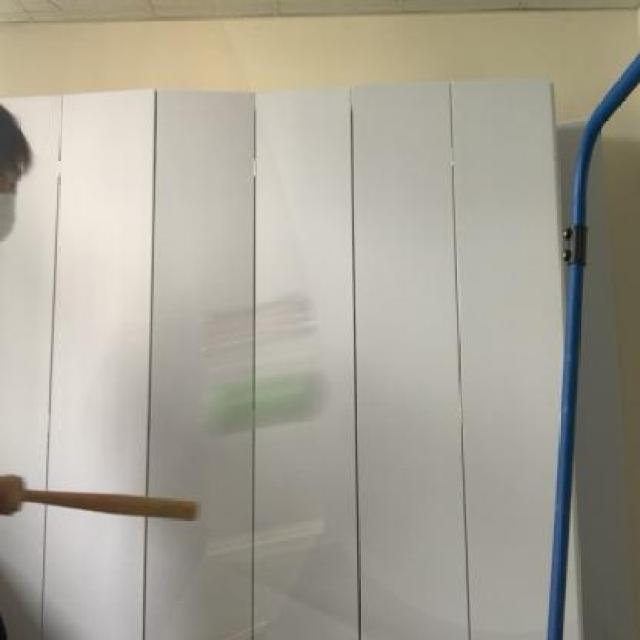baseball: (198, 356, 334, 447)
